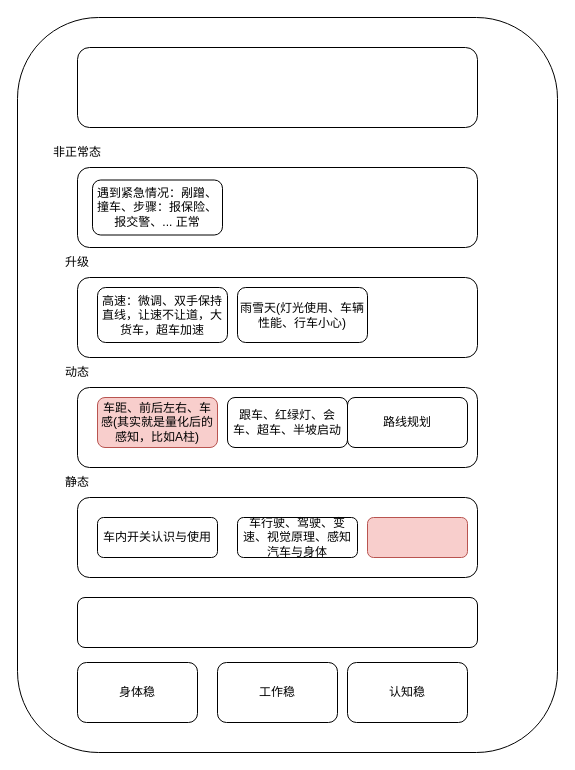
Image size: 575x770. Some labels were removed from this diagram. The centre of each missing label's shape, as x and y in pixels:
心态稳、不急躁、不惧怕(别人女生都能，我为什么不能；保险；战胜): the point at 277,622
方向盘、放松、脚不要乱、档位: the point at 417,537
融合完成、人车合一: the point at 277,87
